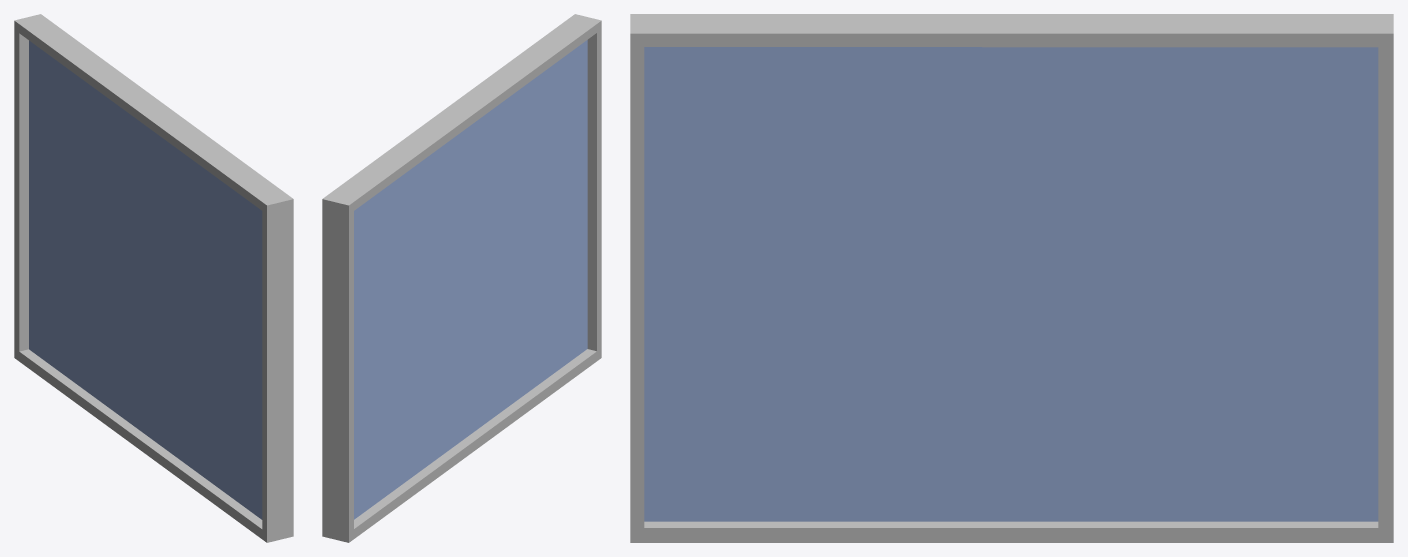
The model's file is SM_Window_01_B.gltf.
3 renders of one model, left to right at view 1: azimuth 30°, elevation 25°; view 2: azimuth 150°, elevation 25°; view 3: azimuth 270°, elevation 25°, orthographic. The views are drawn at different scales.
Visible parts, largest first — view 1: Window_01_B; view 2: Window_01_B; view 3: Window_01_B.
Part boxes in pixels (box(x1,y1,x2,y2)): Window_01_B: box(14, 14, 293, 542); Window_01_B: box(322, 14, 601, 542); Window_01_B: box(630, 14, 1393, 542).
Bounding box in the file's own units: 0.1165 × 1.41 × 1.91.
